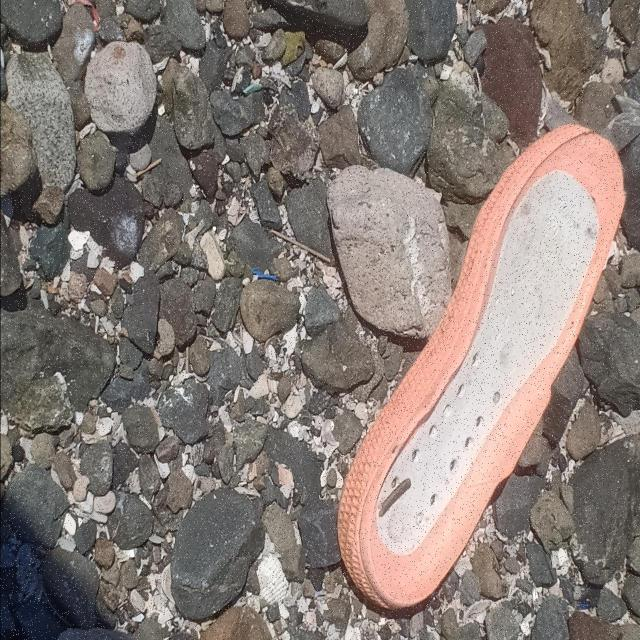rubber_waste: (336, 123, 627, 617)
